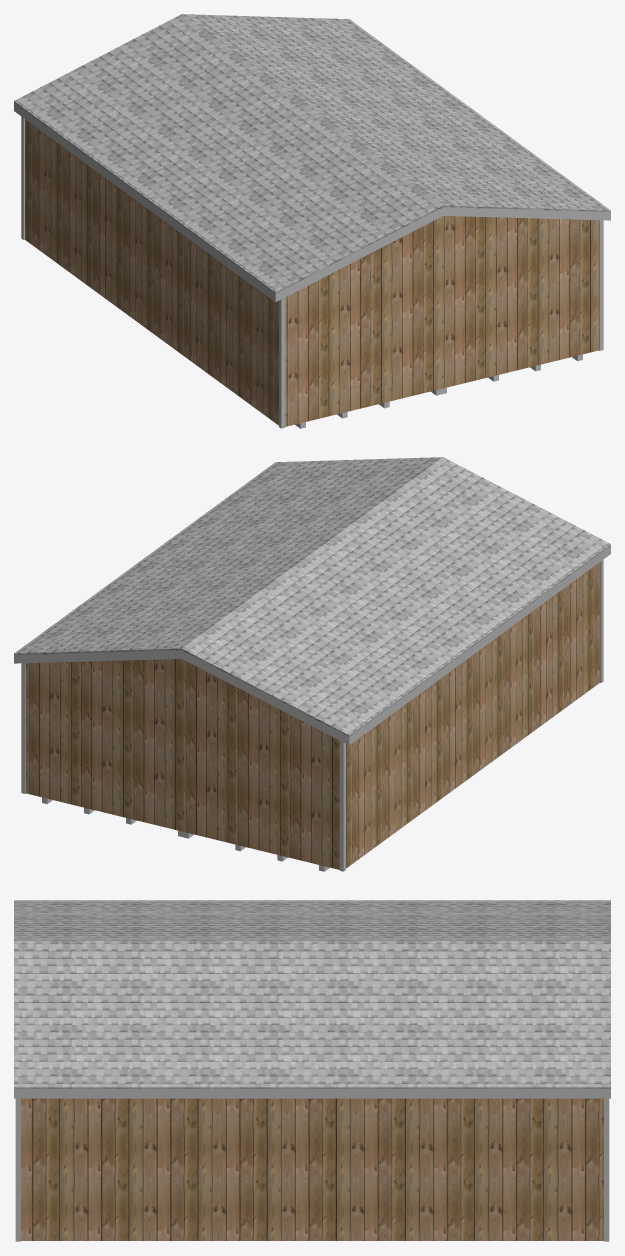
File: Double Garage 3-12 PITCH ROOF_20x28.obj
The picture shows the model from 3 angles, top to bottom: view 1: azimuth 30°, elevation 25°; view 2: azimuth 150°, elevation 25°; view 3: azimuth 270°, elevation 25°; orthographic projection. The views are drawn at different scales.
Visible parts, largest first — view 1: Roof, Shed, Sides, Trim; view 2: Roof, Shed, Sides, Trim; view 3: Roof, Shed, Sides, Trim.
Part boxes in pixels (x1=…): Roof: x1=14, y1=14, x2=610, y2=293; Shed: x1=25, y1=119, x2=598, y2=426; Sides: x1=14, y1=103, x2=610, y2=302; Trim: x1=21, y1=116, x2=603, y2=428; Roof: x1=14, y1=457, x2=610, y2=736; Shed: x1=26, y1=562, x2=599, y2=869; Sides: x1=14, y1=546, x2=610, y2=745; Trim: x1=21, y1=559, x2=603, y2=871; Roof: x1=14, y1=900, x2=610, y2=1088; Shed: x1=21, y1=1098, x2=603, y2=1240; Sides: x1=14, y1=1089, x2=610, y2=1098; Trim: x1=15, y1=1098, x2=609, y2=1241.
Size of the model in its own units: 6.4 by 3.46 by 8.64.
